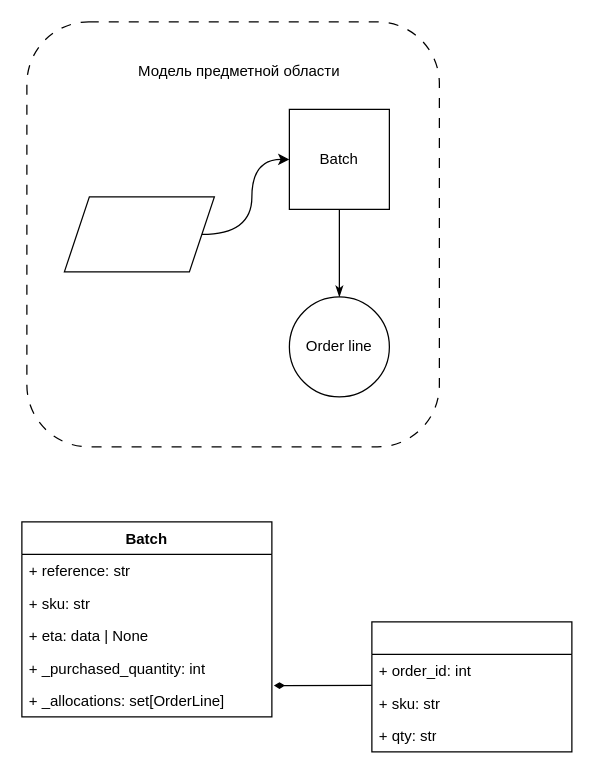
Image size: 594x778. Some labels were removed from this diagram. Each missing label, with the box of its shape:
allocate(): (63, 196, 214, 272)
OrderLine: (371, 621, 572, 752)
